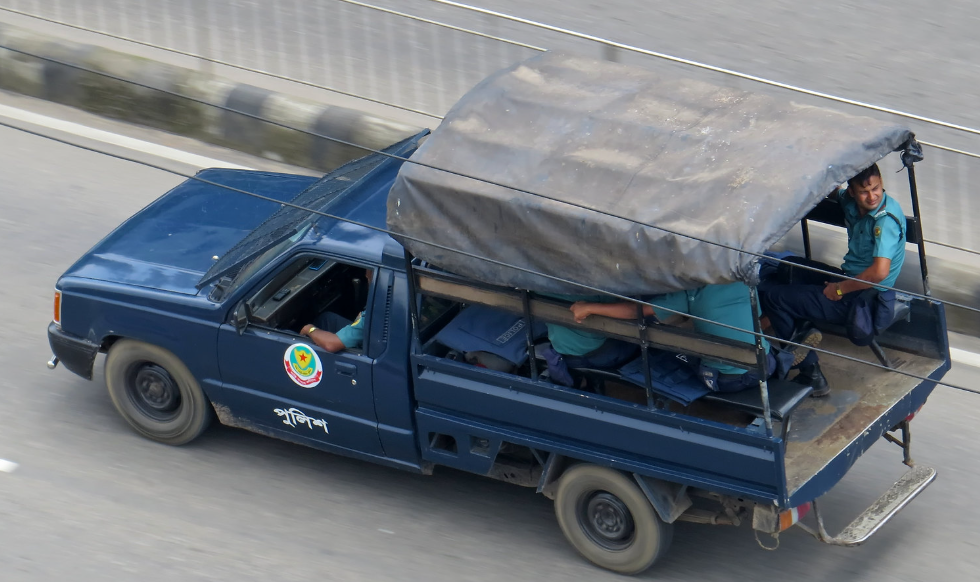Police cars: (41, 40, 948, 574)
